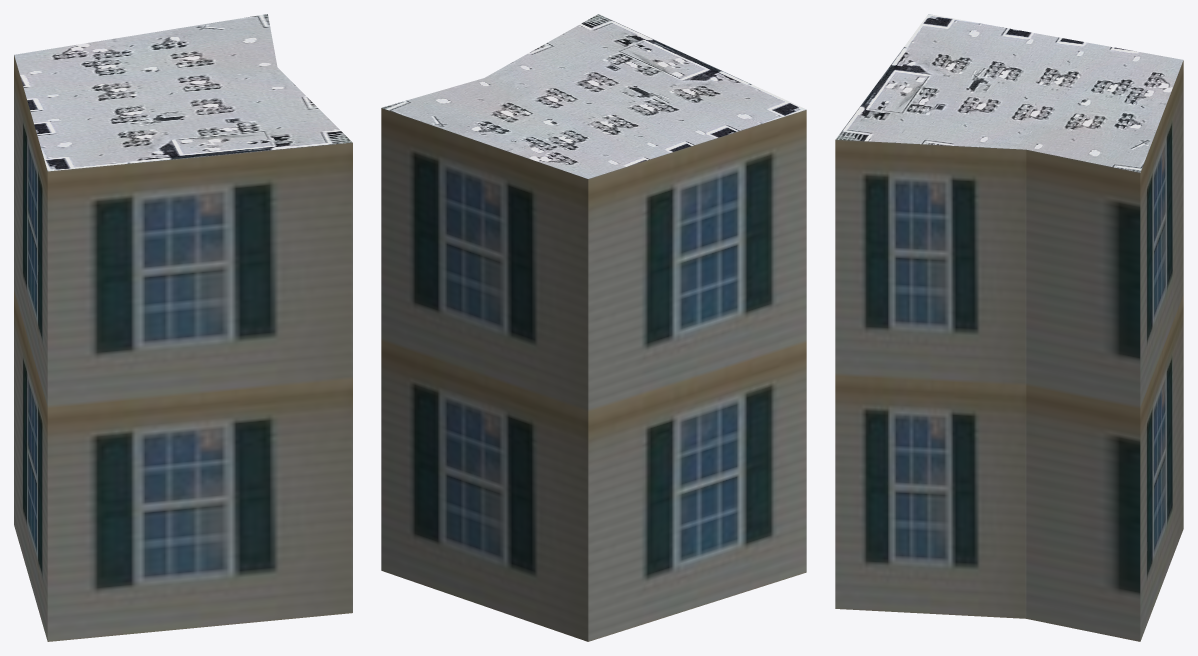
The model's file is ResTex__5063.fbx.
3 views of the same model, side by side, from view 1: azimuth 30°, elevation 25°; view 2: azimuth 150°, elevation 25°; view 3: azimuth 270°, elevation 25° (orthographic).
Parts seen in each view (by area): view 1: CityEngineMaterial_7_m, CityEngineMaterial_m; view 2: CityEngineMaterial_7_m, CityEngineMaterial_m; view 3: CityEngineMaterial_7_m, CityEngineMaterial_m.
Boxes of the visible parts, box(x1,y1,x2,y2) form: CityEngineMaterial_7_m: box(14, 55, 352, 641); CityEngineMaterial_m: box(14, 14, 352, 171); CityEngineMaterial_7_m: box(381, 108, 806, 641); CityEngineMaterial_m: box(381, 14, 806, 178); CityEngineMaterial_7_m: box(835, 60, 1183, 641); CityEngineMaterial_m: box(835, 14, 1183, 172).
Size of the model in its own units: 4.36 by 6 by 4.04.
2 materials, 2 textured.
